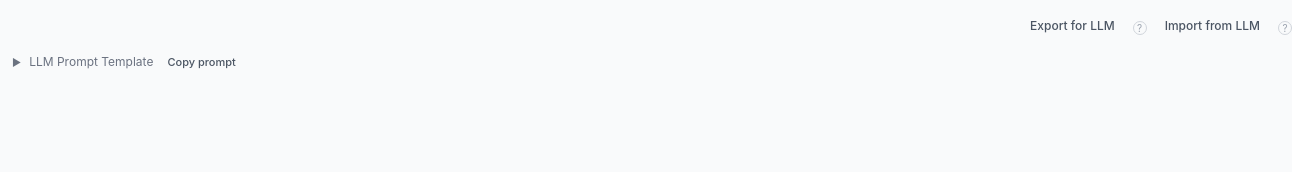
Test: LlmTools › shows "Copied!" after copy button is clicked
Expected: the heading "▶ LLM Prompt Template Copy prompt" is shown, [12,52,242,72]
Click the button "Copy prompt".
click(202, 62)  # box [161,52,242,72]
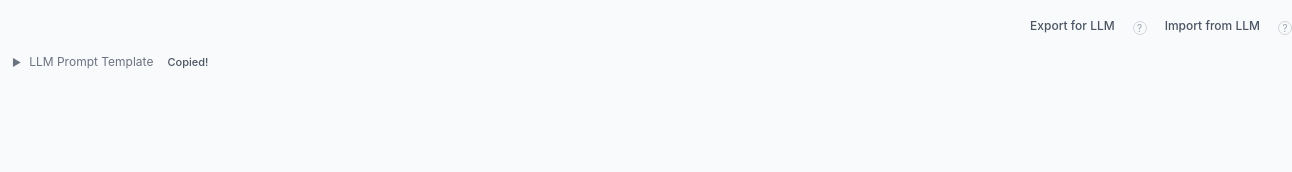
Result: the button "Copied!" is shown at [161,52,214,72]
